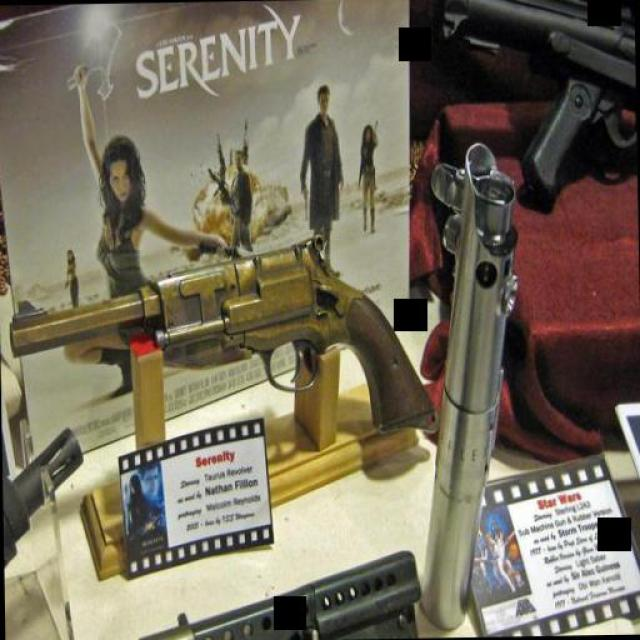gun: (6, 219, 438, 451)
